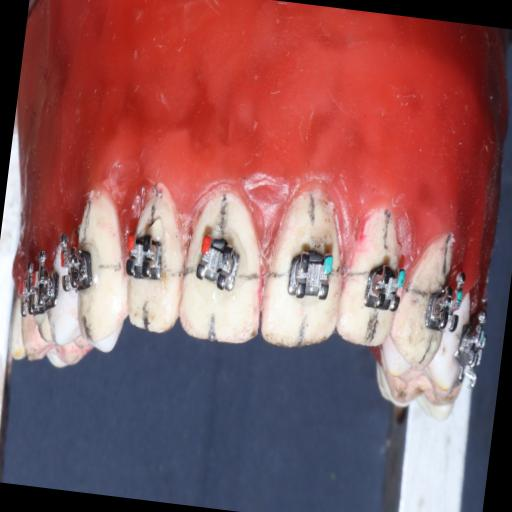correct_brace: (282, 240, 339, 306)
incorrect_brace: (193, 222, 248, 297)
